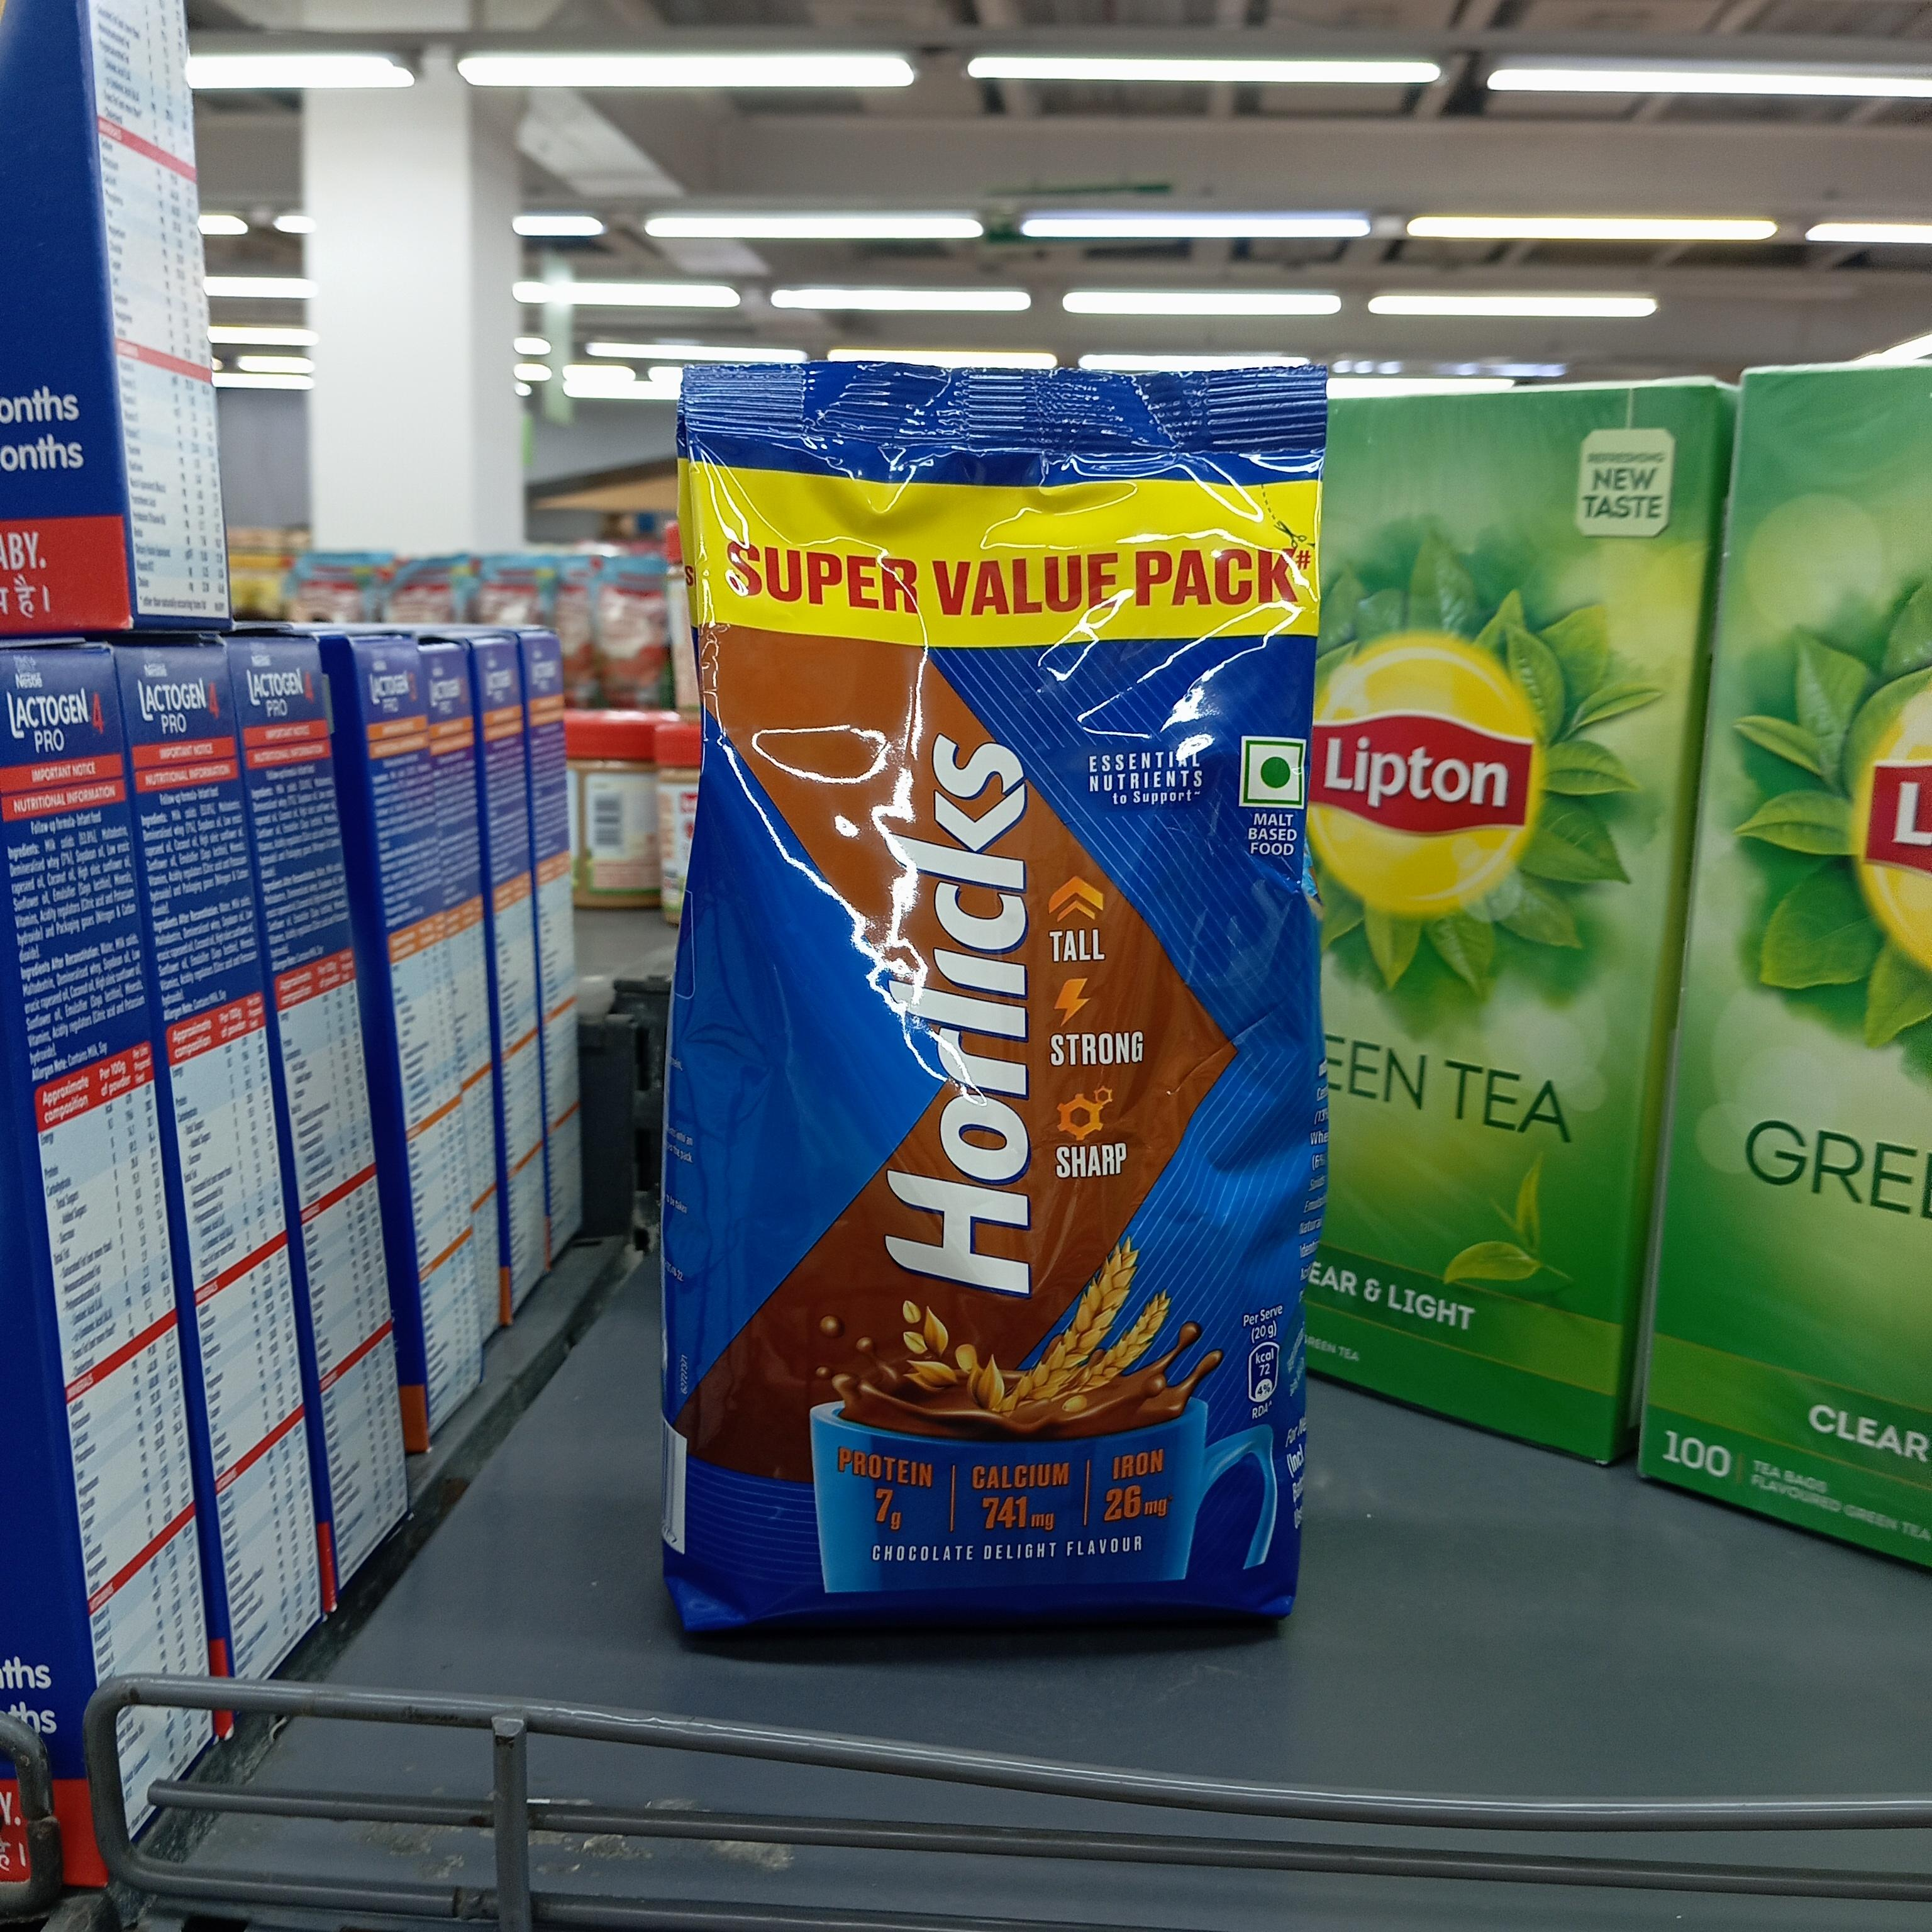HORLICK_CHOCOLATE_750_G_POUCH: (679, 402, 1290, 1654)
